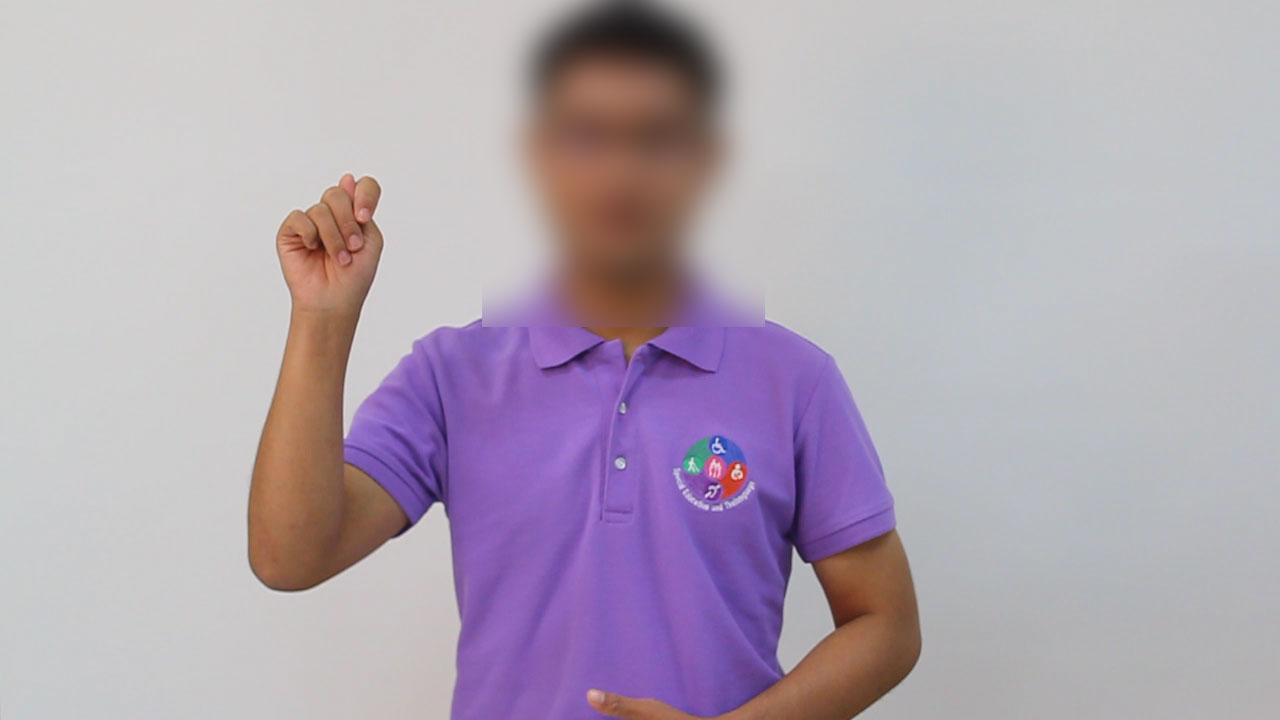tor: (271, 163, 399, 325)
